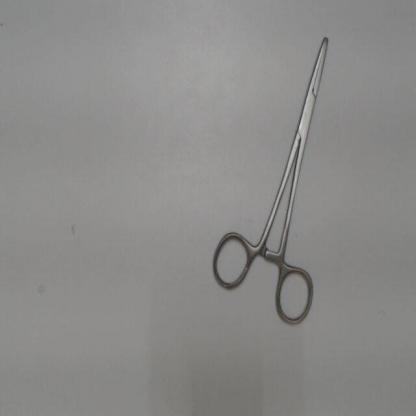Mayo Needle Holder: (200, 25, 336, 336)
